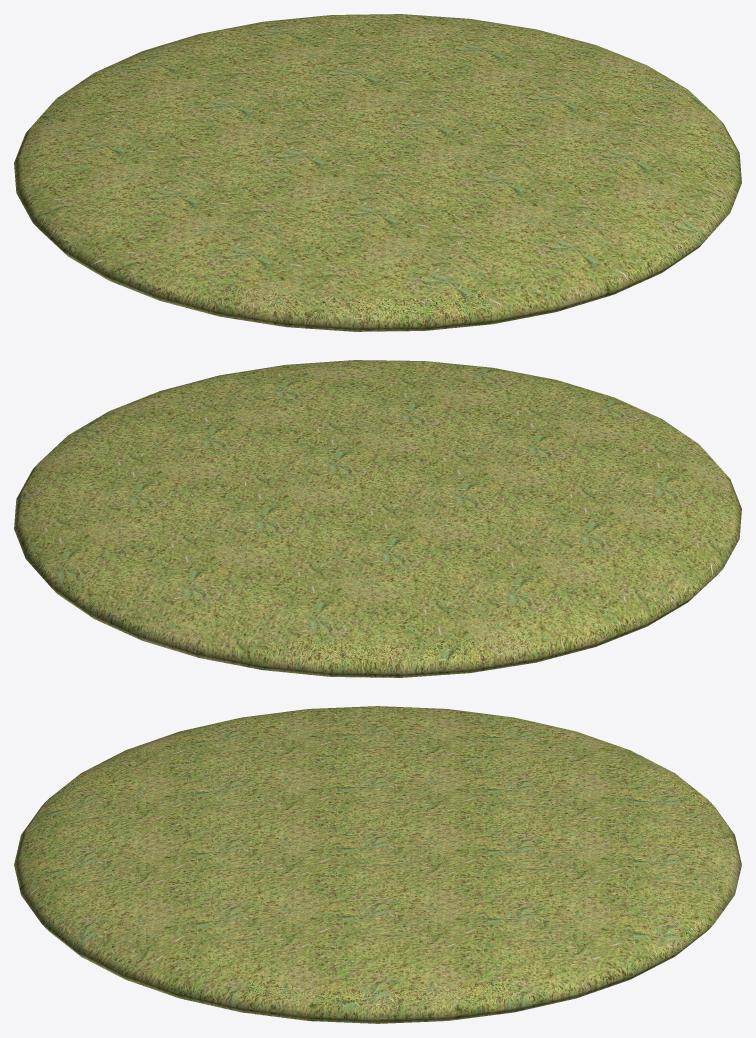
Rendered from island.fbx.
3 renders of one model, top to bottom at view 1: azimuth 30°, elevation 25°; view 2: azimuth 150°, elevation 25°; view 3: azimuth 270°, elevation 25°, orthographic.
Visible parts, largest first — view 1: Sphere; view 2: Sphere; view 3: Sphere.
Part boxes in pixels (<box>): Sphere: <box>14,14,741,331</box>; Sphere: <box>14,360,741,677</box>; Sphere: <box>14,706,741,1023</box>.
Size of the model in its own units: 1600 by 200 by 1600.
